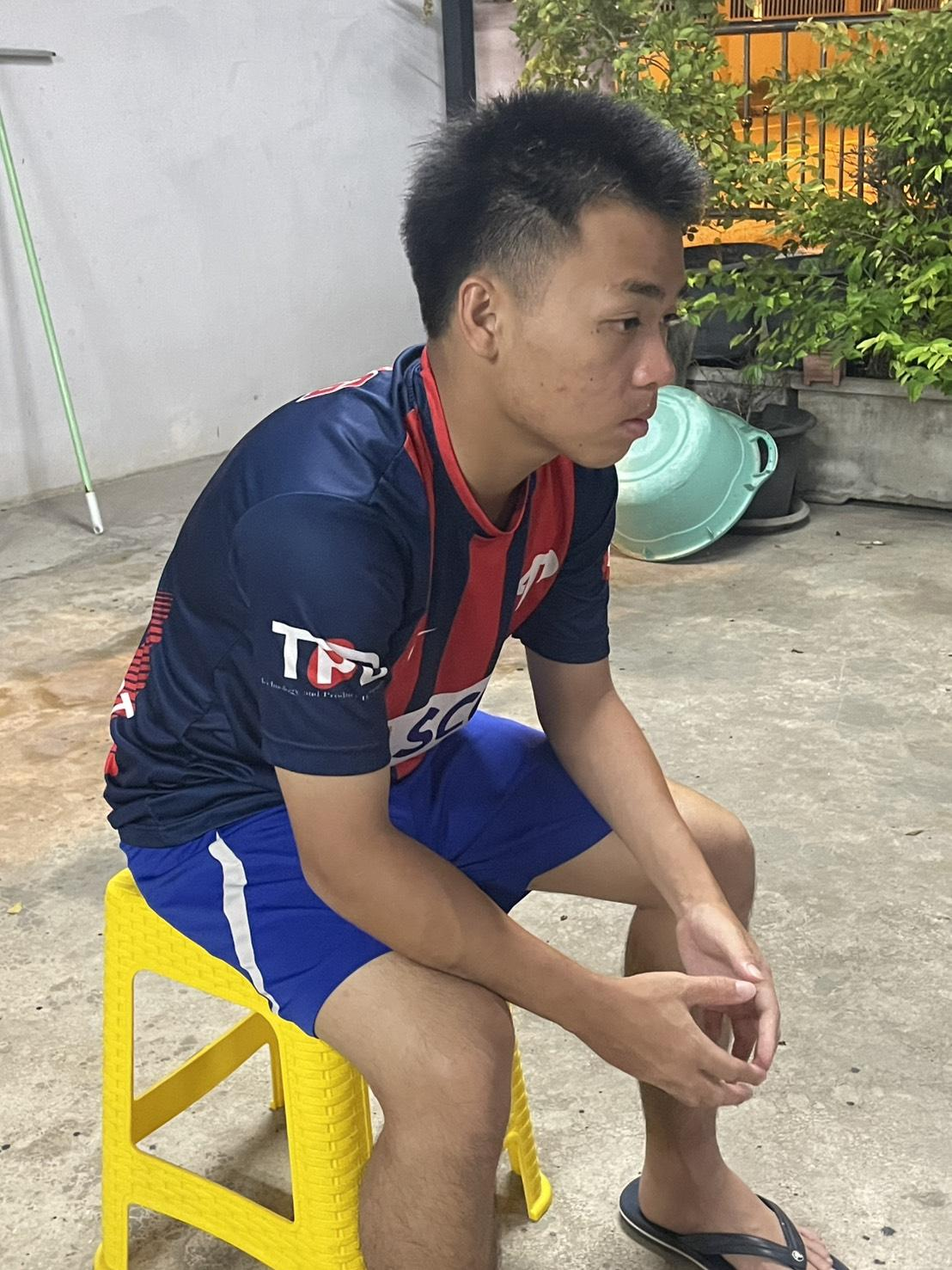BadPosture: (104, 91, 704, 845)
